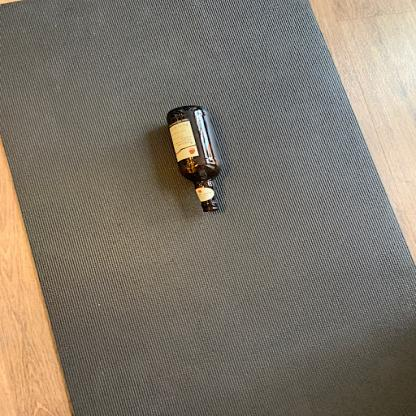trash: (166, 103, 228, 215)
